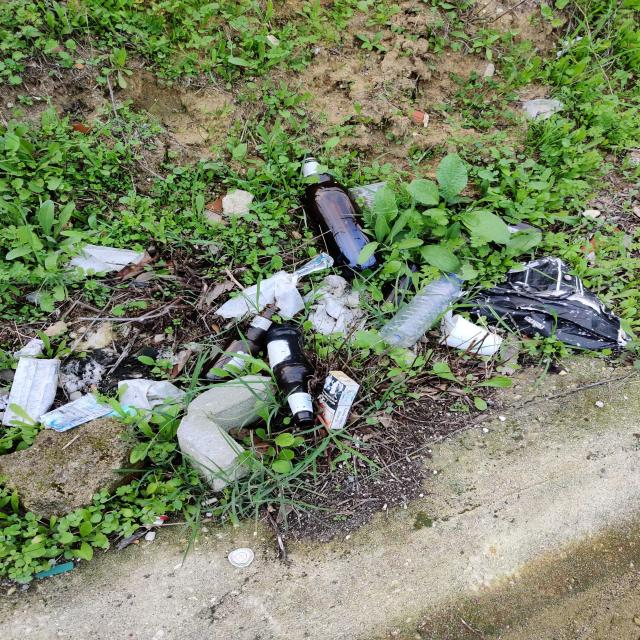litter: (259, 125, 428, 295), (178, 284, 343, 433), (468, 242, 635, 370), (352, 264, 469, 355), (21, 232, 170, 294)
